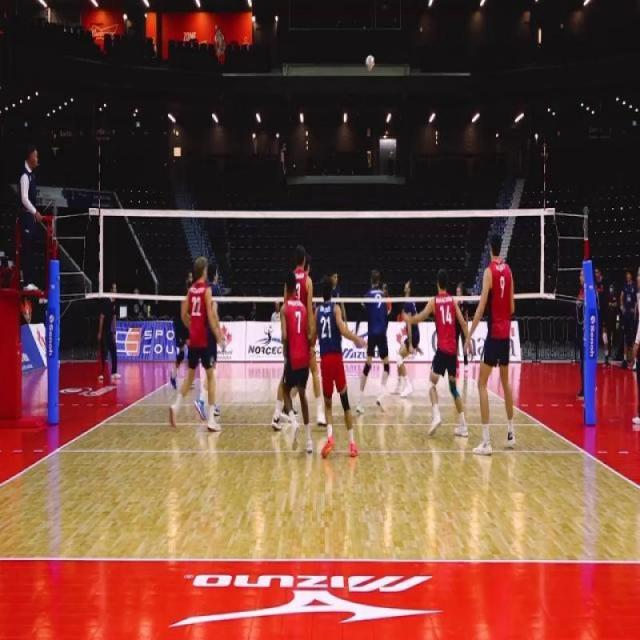volleyball: (365, 52, 375, 74)
